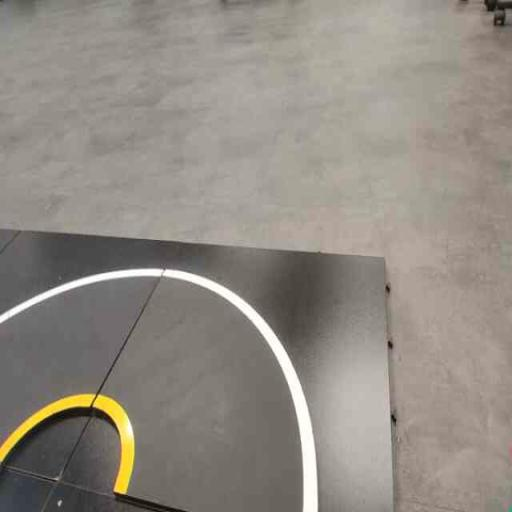left: (57, 236, 365, 511)
